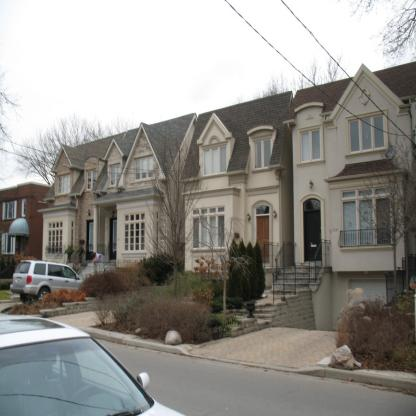Car: (4, 321, 160, 416), (11, 258, 82, 302)
